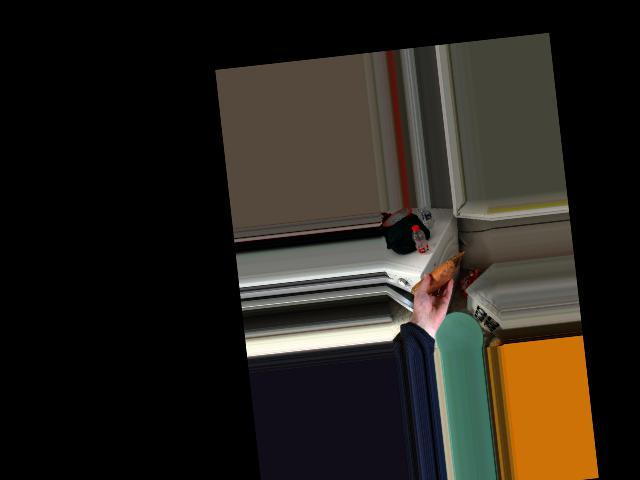sweet_potato: (418, 260, 453, 294)
